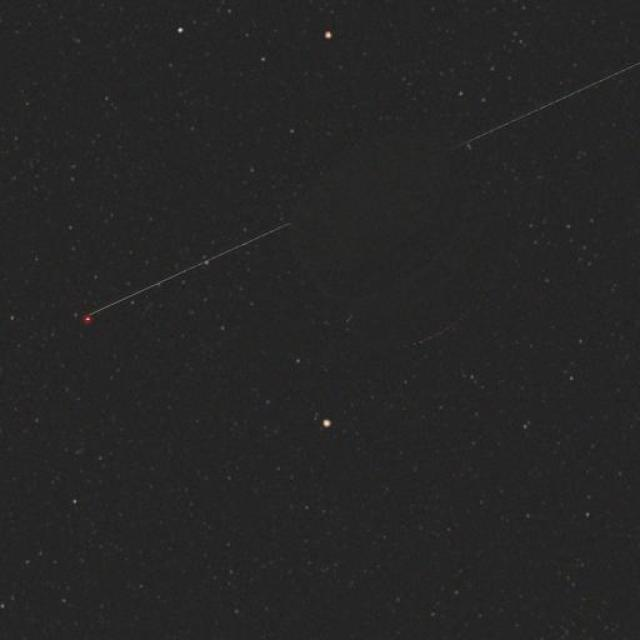double_start: (262, 110, 488, 366)
